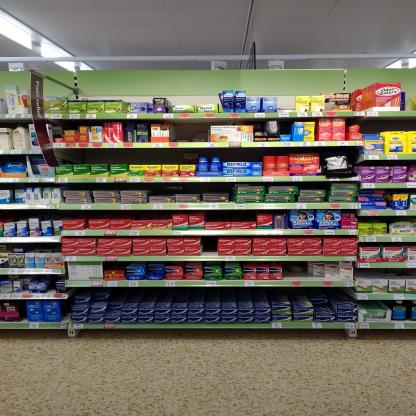Void: (55, 150, 180, 163), (64, 210, 171, 219), (179, 122, 206, 143), (226, 150, 261, 162), (209, 211, 252, 219), (188, 184, 229, 192), (285, 263, 305, 278), (385, 120, 412, 131), (362, 121, 382, 135), (200, 239, 215, 255), (278, 99, 295, 111), (102, 261, 124, 269), (303, 183, 322, 189)
